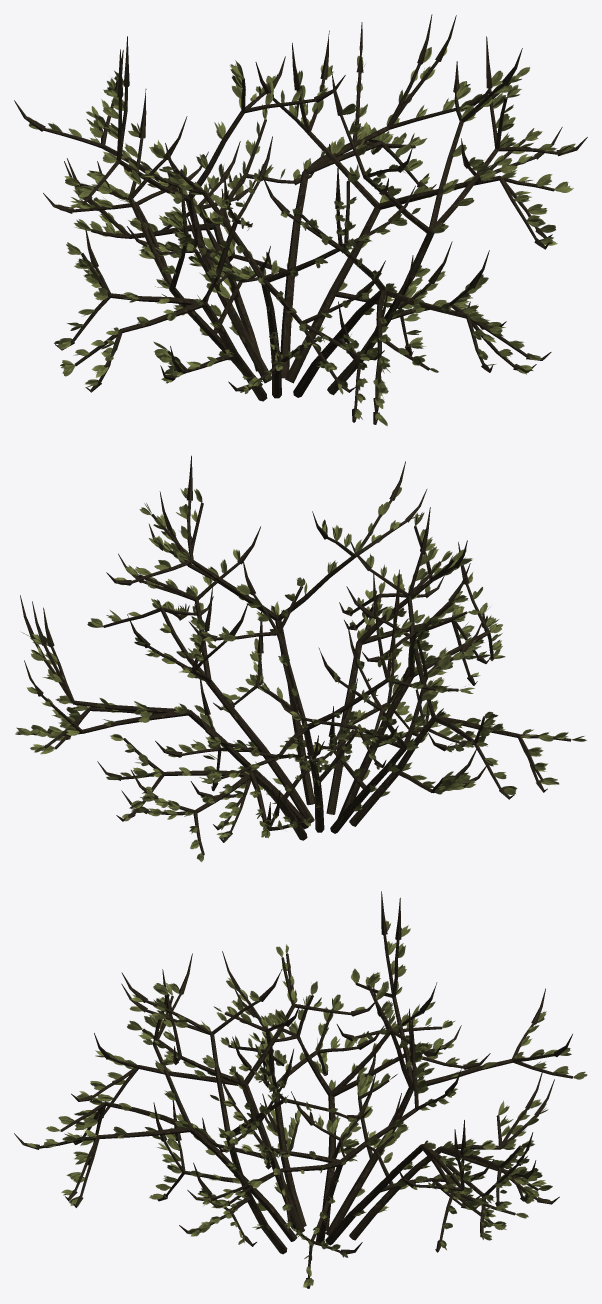
Rendered from thorn_scrub_v02.glb.
3 renders of one model, top to bottom at view 1: azimuth 30°, elevation 25°; view 2: azimuth 150°, elevation 25°; view 3: azimuth 270°, elevation 25°, orthographic. The views are drawn at different scales.
Parts seen in each view (by area): view 1: thorn_scrub_v02; view 2: thorn_scrub_v02; view 3: thorn_scrub_v02.
Part boxes in pixels (x1,y1,x2,y2): thorn_scrub_v02: (14, 14, 587, 426); thorn_scrub_v02: (15, 455, 586, 862); thorn_scrub_v02: (14, 891, 587, 1288).
Bounding box in the file's own units: 3.4 × 2.15 × 3.77.
Materials: 2 (2 with a texture image).
